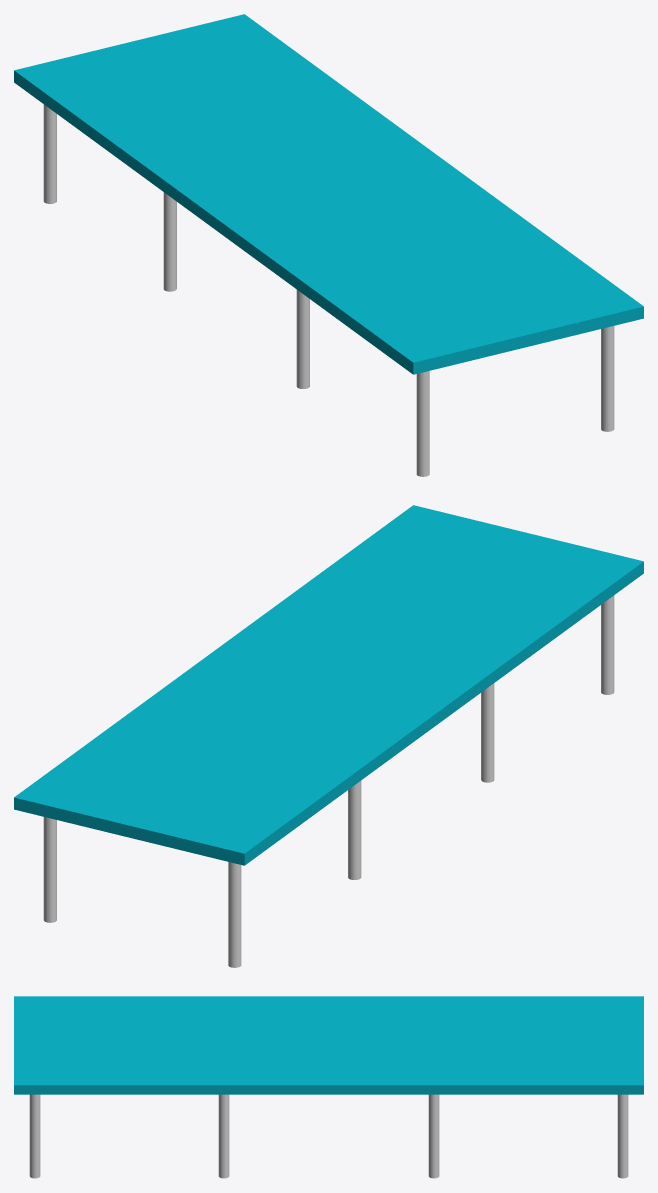
The model's file is Serving_Table.fbx.
The picture shows the model from 3 angles, top to bottom: view 1: azimuth 30°, elevation 25°; view 2: azimuth 150°, elevation 25°; view 3: azimuth 270°, elevation 25°; orthographic projection. The views are drawn at different scales.
Parts seen in each view (by area): view 1: Cube, Cylinder.003, Cylinder.001, Cylinder.004, Cylinder.007, Cylinder.006; view 2: Cube, Cylinder, Cylinder.004, Cylinder.001, Cylinder.006, Cylinder.007; view 3: Cube, Cylinder, Cylinder.002, Cylinder.003, Cylinder.008.
Part boxes in pixels (x1,y1,x2,y2): Cube: (14, 14, 643, 374); Cylinder.003: (601, 326, 614, 431); Cylinder.001: (416, 371, 429, 476); Cylinder.004: (43, 104, 56, 203); Cylinder.007: (163, 192, 176, 291); Cylinder.006: (296, 289, 309, 388); Cube: (14, 505, 643, 865); Cylinder: (43, 817, 56, 922); Cylinder.004: (228, 862, 241, 967); Cylinder.001: (601, 595, 614, 694); Cylinder.006: (481, 683, 494, 782); Cylinder.007: (348, 780, 361, 879); Cube: (14, 996, 643, 1094); Cylinder: (617, 1094, 628, 1178); Cylinder.002: (428, 1094, 439, 1178); Cylinder.003: (29, 1094, 40, 1178); Cylinder.008: (218, 1094, 229, 1178).
Bounding box in the file's own units: 2 × 1.05 × 6.
